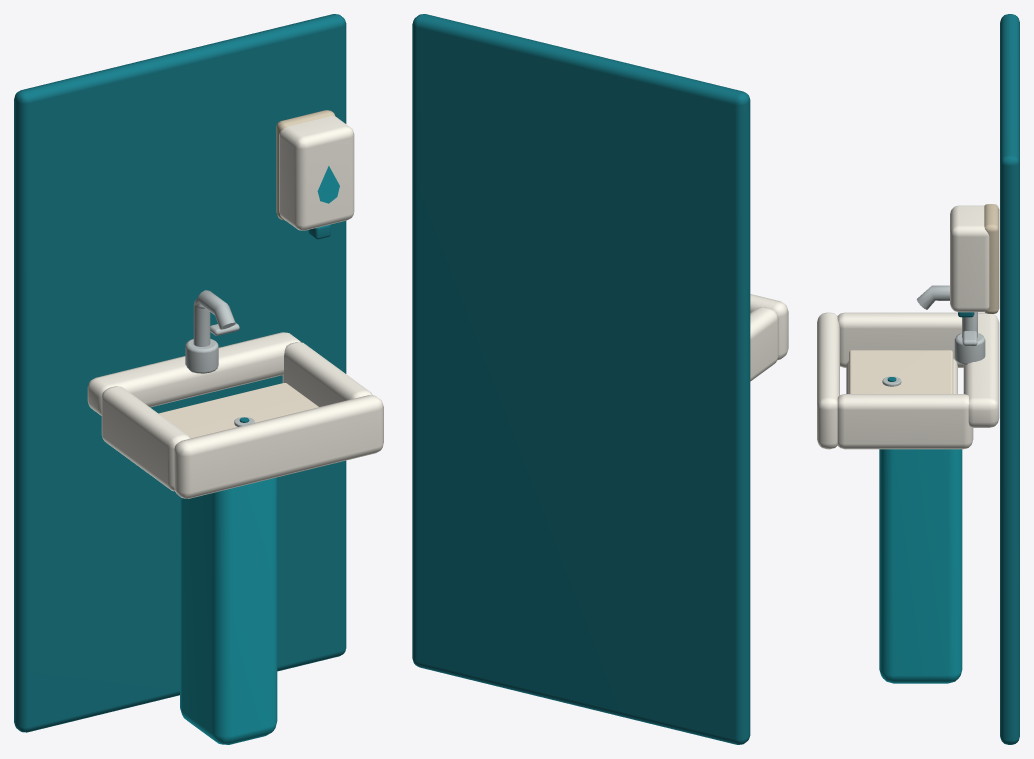
Rendered from Utility_Sink.glb.
3 views of the same model, side by side, from view 1: azimuth 30°, elevation 25°; view 2: azimuth 150°, elevation 25°; view 3: azimuth 270°, elevation 25° (orthographic). The views are drawn at different scales.
Parts seen in each view (by area): view 1: Utility_Sink__Visual, Clinical_Handwash_Basin__Visual.001, Clinical_Soap_Dispenser__Visual.001; view 2: Utility_Sink__Visual, Clinical_Handwash_Basin__Visual.001; view 3: Utility_Sink__Visual, Clinical_Handwash_Basin__Visual.001, Clinical_Soap_Dispenser__Visual.001.
Boxes of the visible parts, x1,y1,x2,y2 form: Utility_Sink__Visual: (14, 14, 346, 744); Clinical_Handwash_Basin__Visual.001: (87, 290, 383, 498); Clinical_Soap_Dispenser__Visual.001: (276, 110, 354, 239); Utility_Sink__Visual: (412, 14, 750, 744); Clinical_Handwash_Basin__Visual.001: (750, 294, 788, 381); Utility_Sink__Visual: (879, 14, 1019, 744); Clinical_Handwash_Basin__Visual.001: (817, 285, 999, 449); Clinical_Soap_Dispenser__Visual.001: (950, 204, 999, 317).
Size of the model in its own units: 0.88 by 1.64 by 0.512.
1 material, 1 textured.
